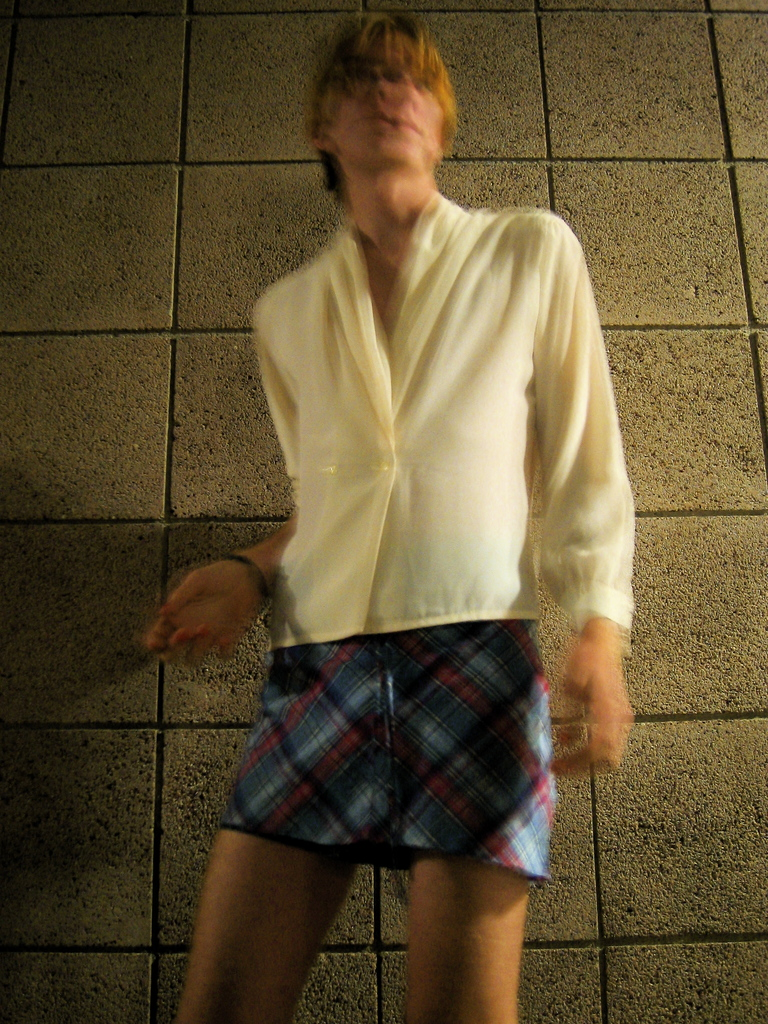Person: (148, 10, 637, 1024)
